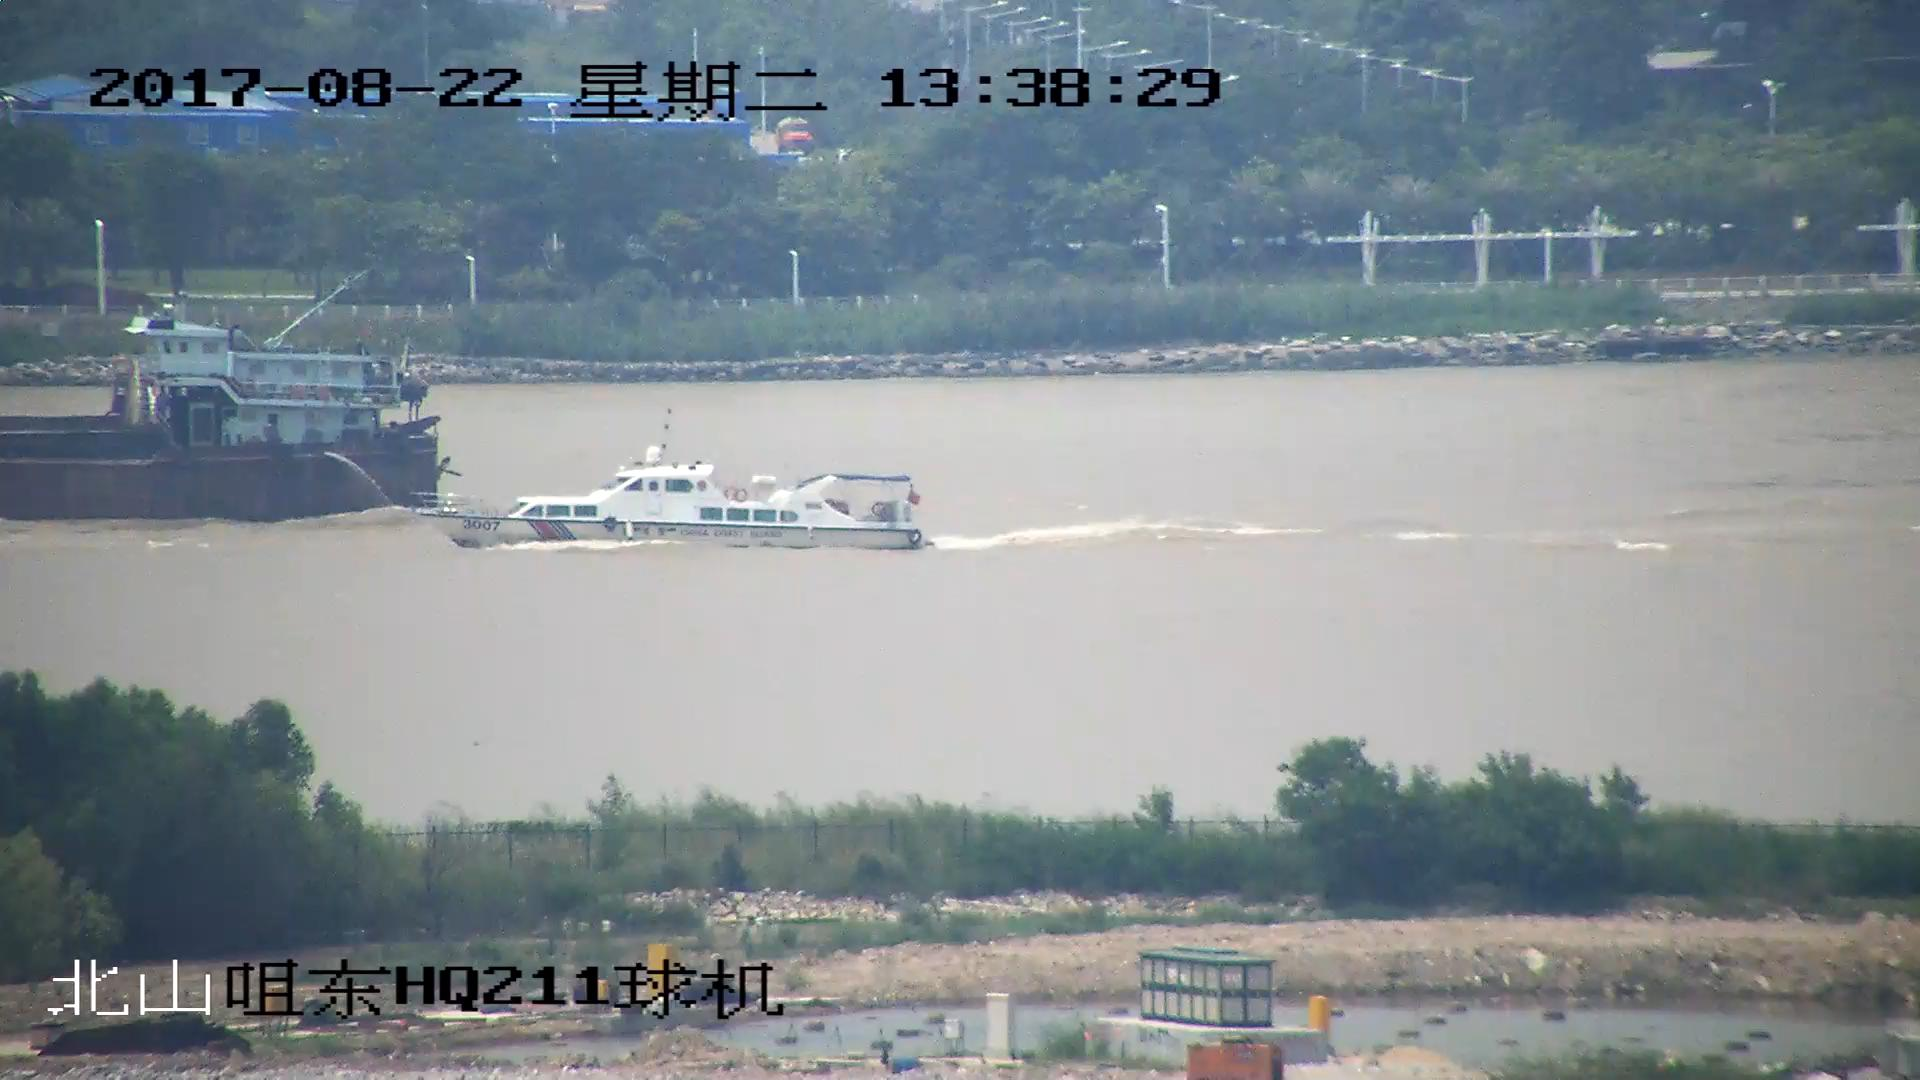bulk cargo carrier: (1, 299, 453, 516)
passenger ship: (416, 424, 935, 556)
